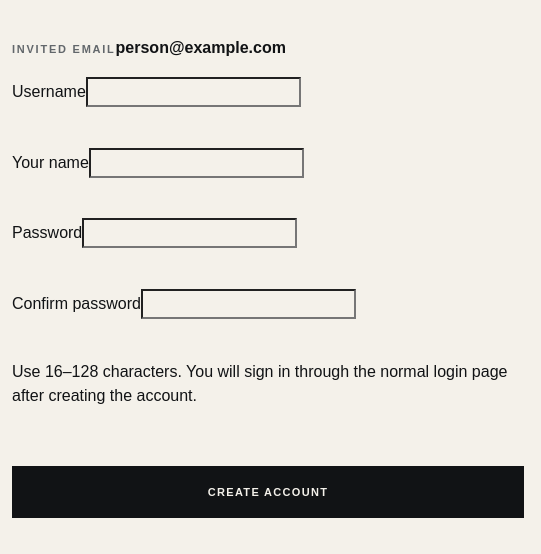
Test: InviteSignupForm › preserves the name and displays action errors without preserving passwords
Type "Ada Lovelace" into the field labelled "Your name" at (196,163), box [89, 148, 304, 178]
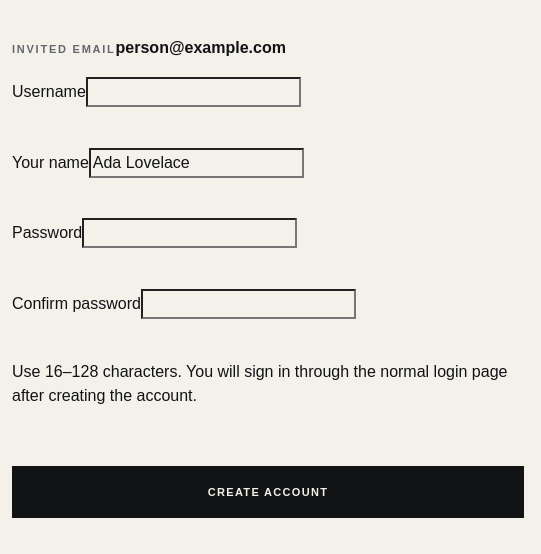
Submit the form named "Create account"
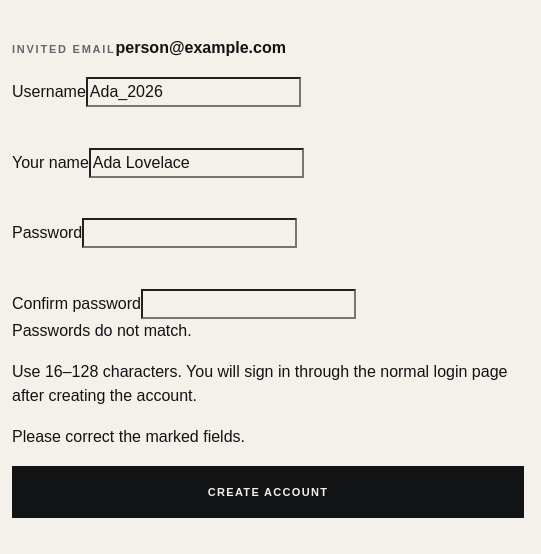
expect the password field labelled "Password" is empty: met, box [82, 218, 297, 248]
expect the text "Passwords do not match." is shown: met, box [12, 322, 192, 339]
expect the field labelled "Username" holds "Ada_2026": met, box [86, 77, 301, 107]
